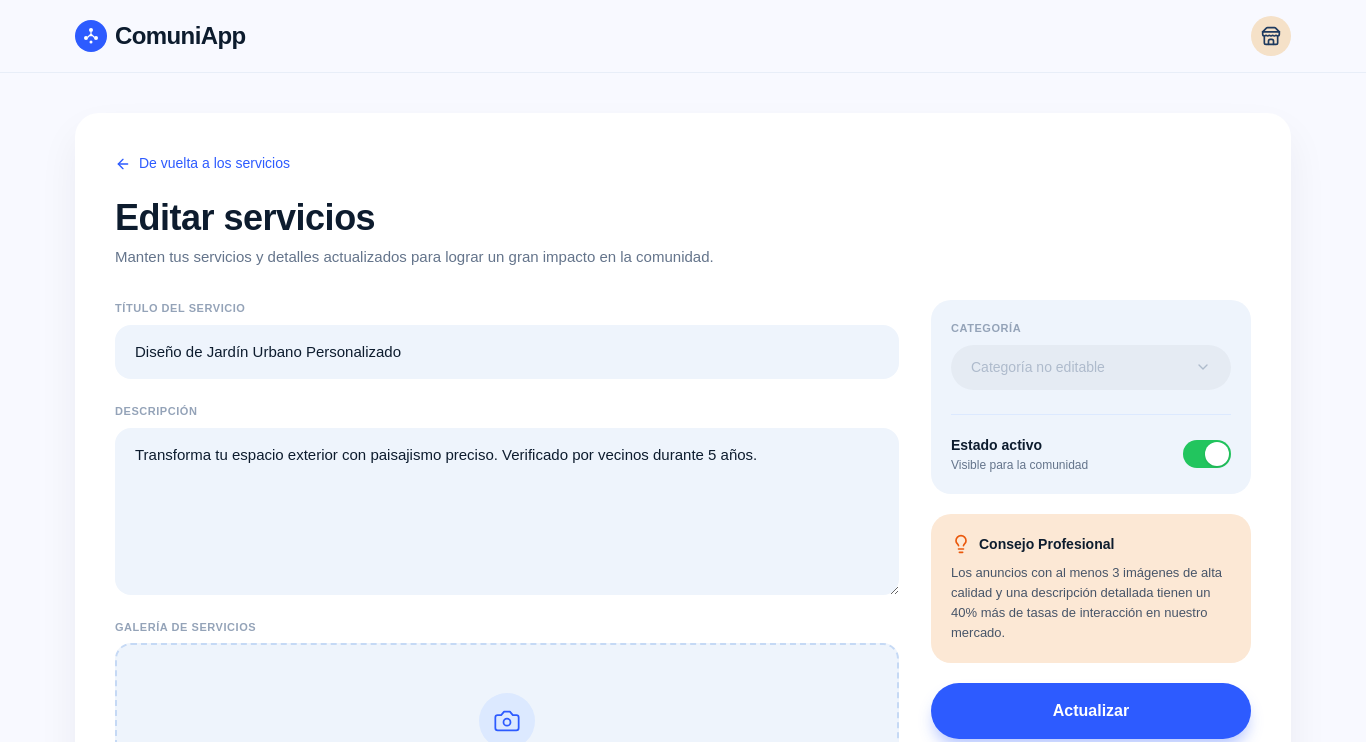
it: EmprendedorEditarServicios › muestra errores de validación al actualizar vacío
Clear the field labelled "Título del servicio" at (507, 352), box [115,324,899,379]
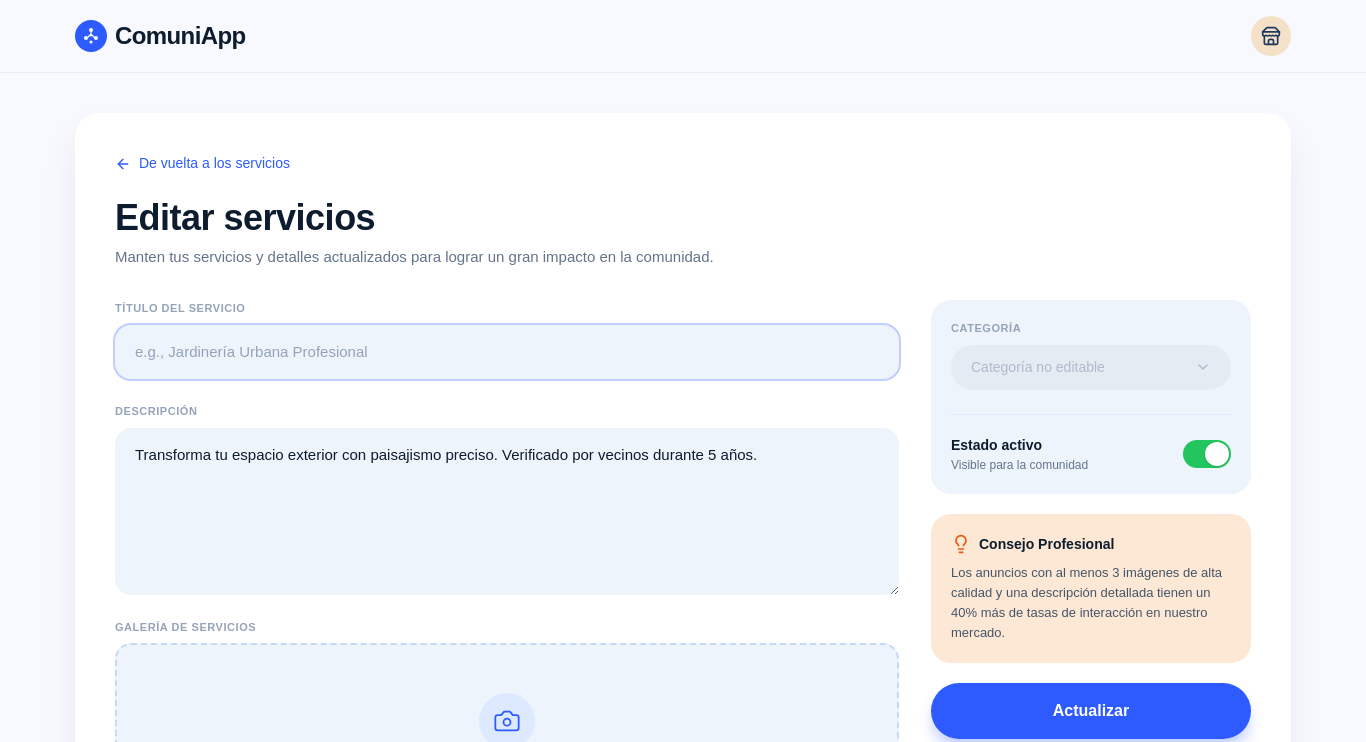
Clear the text box labelled "Descripción" at (507, 511), box [115,428,899,594]
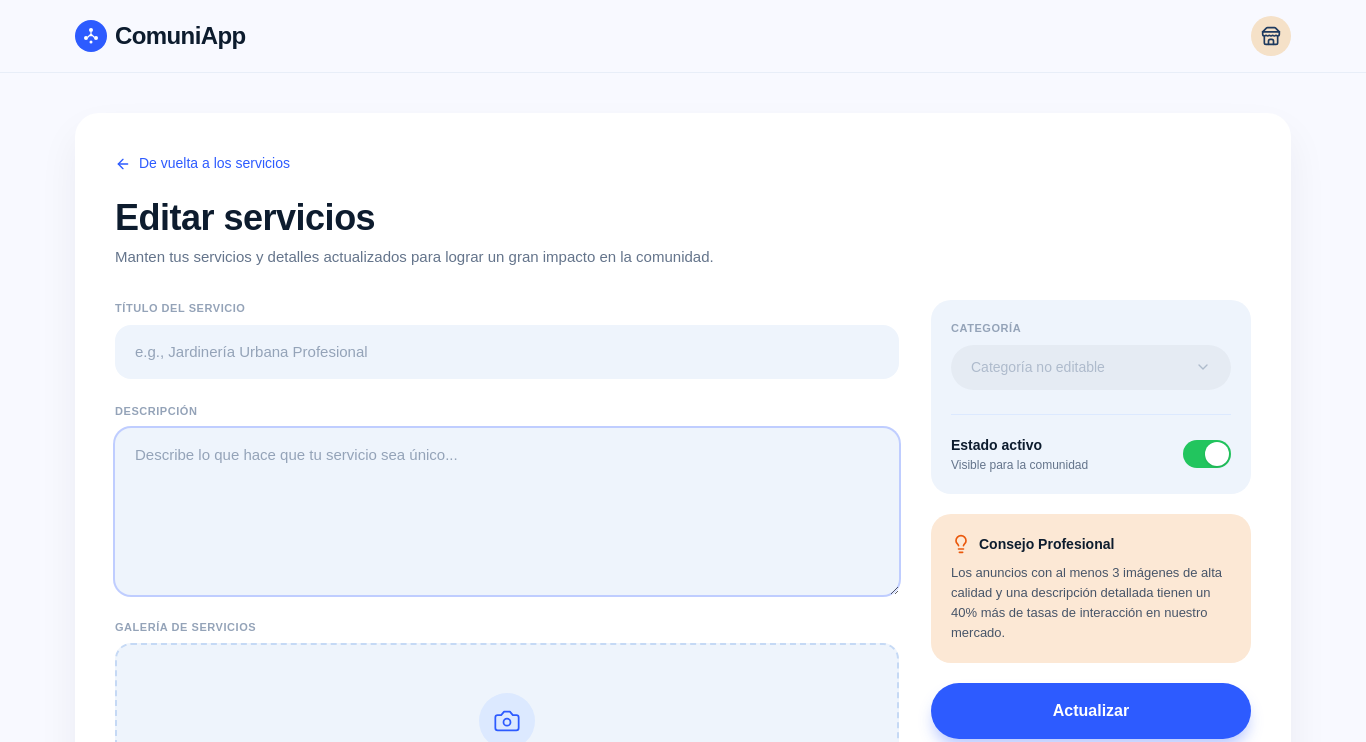
Click the button "Actualizar" at (1091, 710), box [931,682,1251,738]
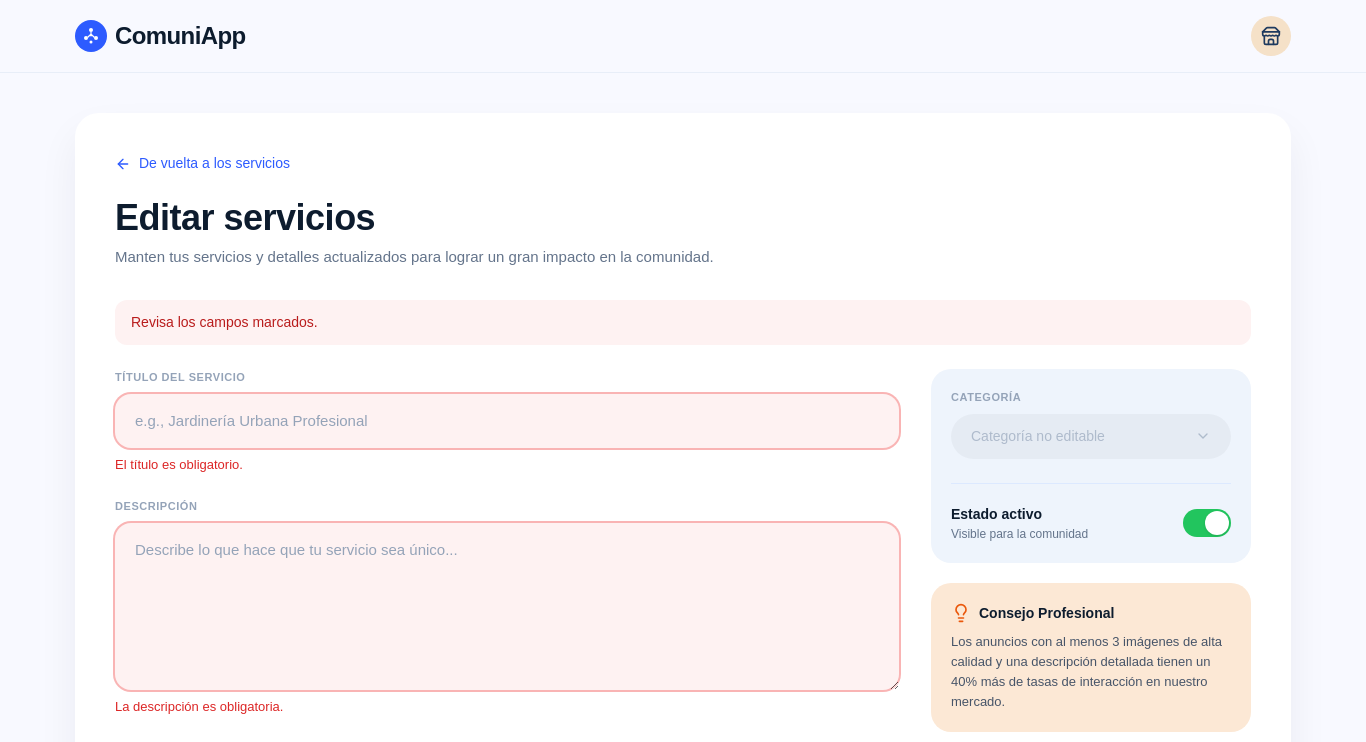
expect the text "Revisa los campos marcados." is shown: met, box [115,300,1251,345]
expect the text "El título es obligatorio." is shown: met, box [115,457,243,472]
expect the text "La descripción es obligatoria." is shown: met, box [115,698,283,714]
